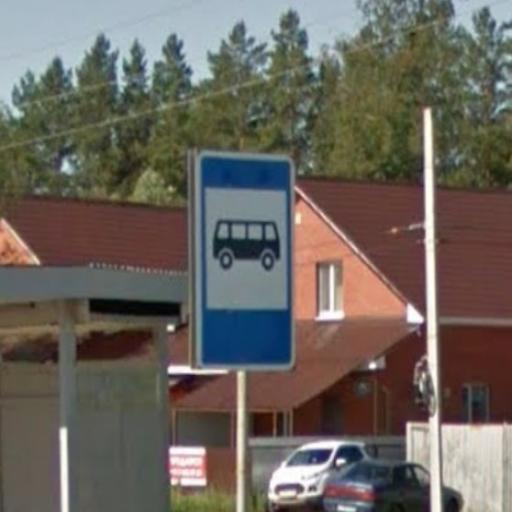traffic_sign: (195, 151, 297, 373)
